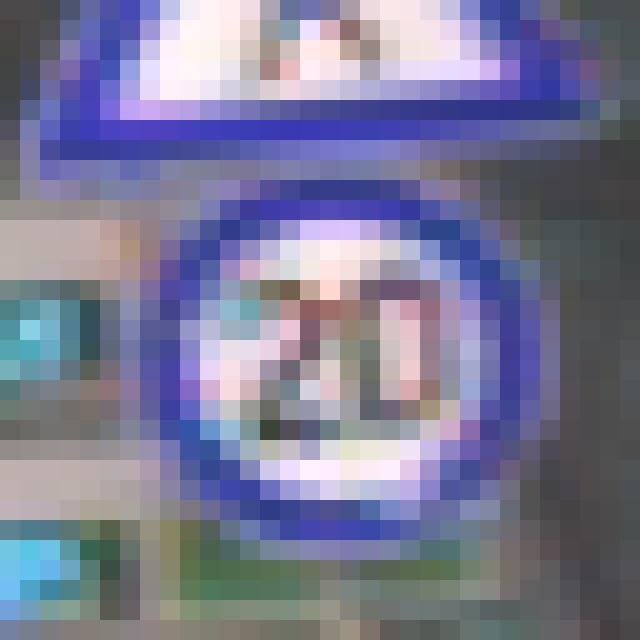SPEED LIMIT 20: (168, 182, 550, 538)
